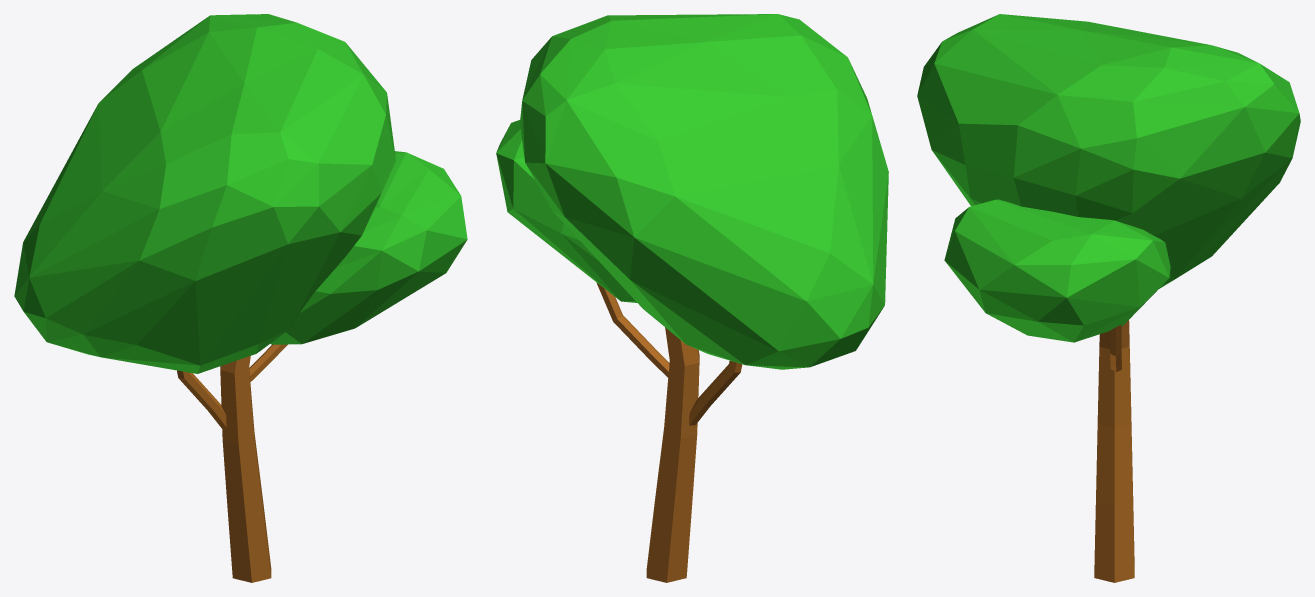
The model's file is Tree7.fbx.
3 views of the same model, side by side, from view 1: azimuth 30°, elevation 25°; view 2: azimuth 150°, elevation 25°; view 3: azimuth 270°, elevation 25° (orthographic). The views are drawn at different scales.
Parts seen in each view (by area): view 1: Green Tree 2; view 2: Green Tree 2; view 3: Green Tree 2.
Boxes of the visible parts, x1,y1,x2,y2 form: Green Tree 2: (14, 14, 467, 582); Green Tree 2: (496, 14, 888, 582); Green Tree 2: (917, 14, 1300, 582).
Bounding box in the file's own units: 277 × 345 × 432.
